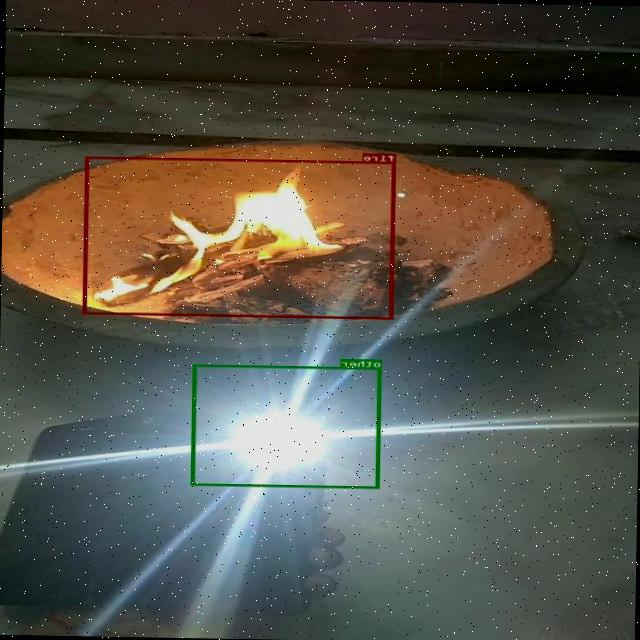fire: (83, 156, 396, 318)
